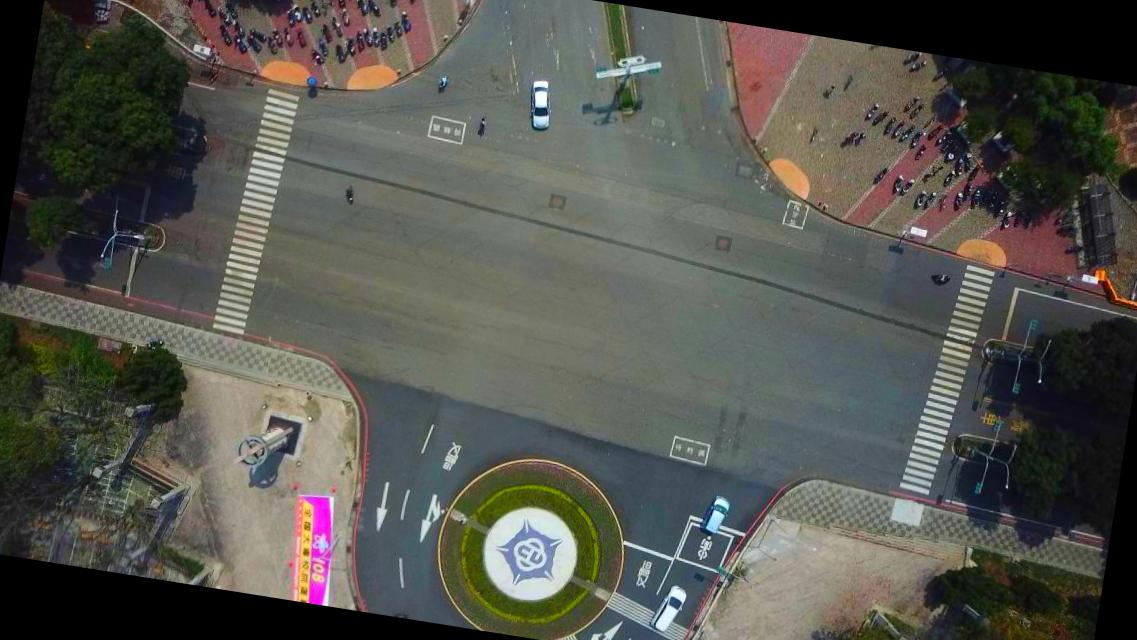vehicle: (648, 583, 687, 635), (525, 80, 556, 130), (702, 495, 730, 535)
